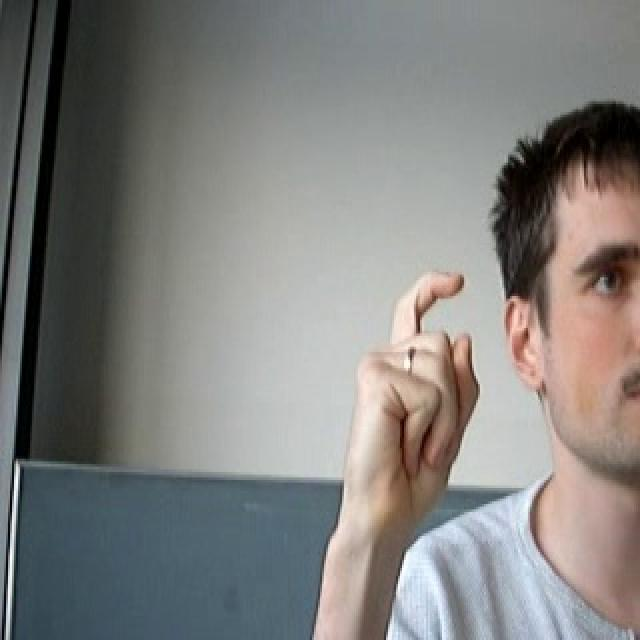X: (319, 254, 489, 547)
